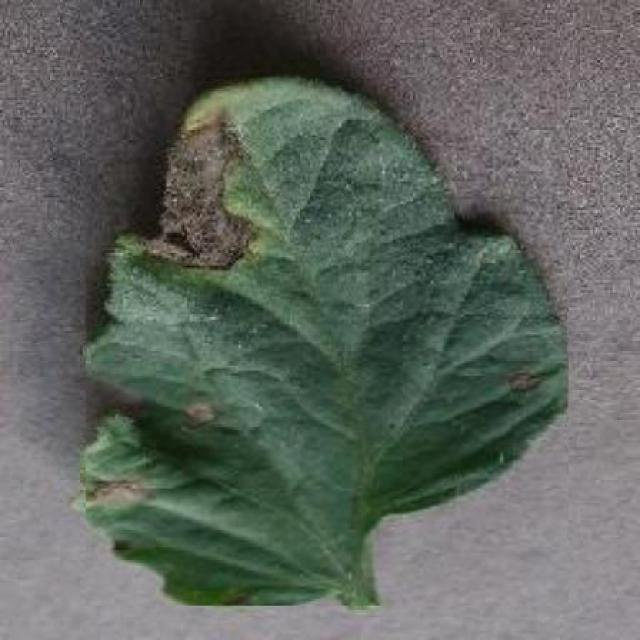Early Blight: (86, 77, 568, 606)
